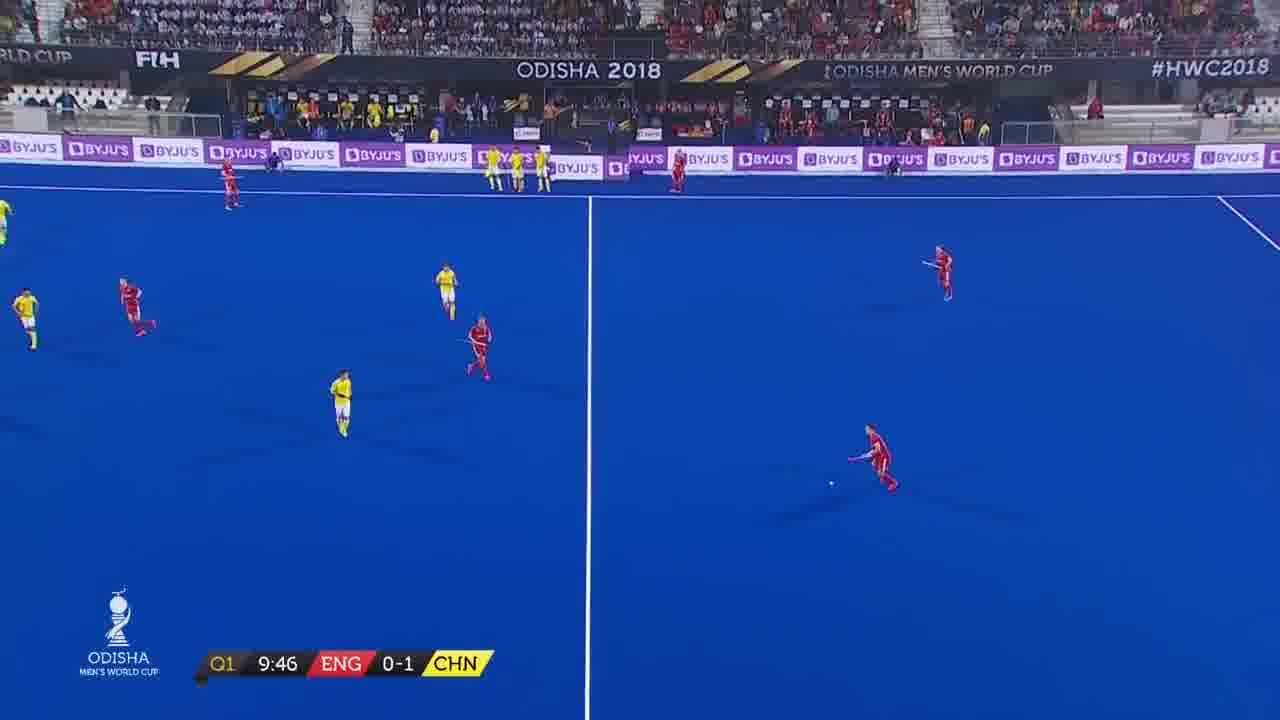ball: (822, 477, 844, 495)
